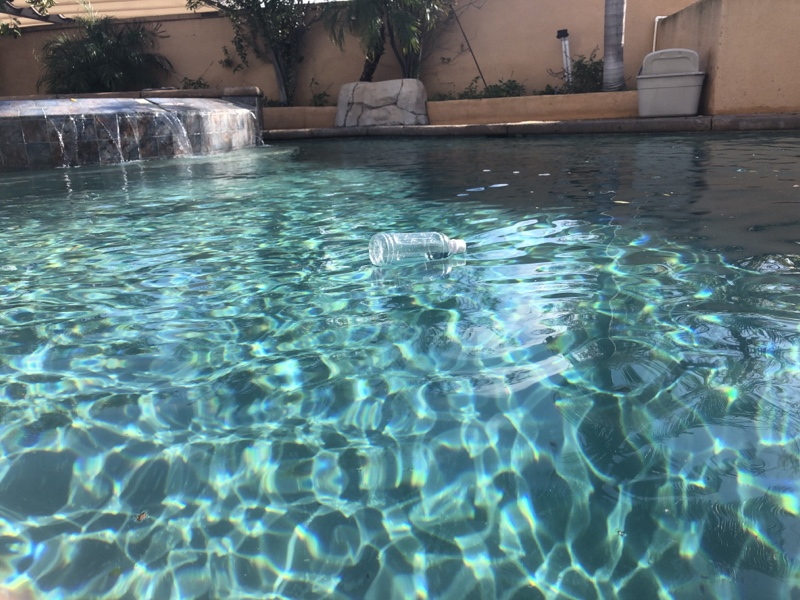Plastic Bottle: (363, 227, 469, 271)
